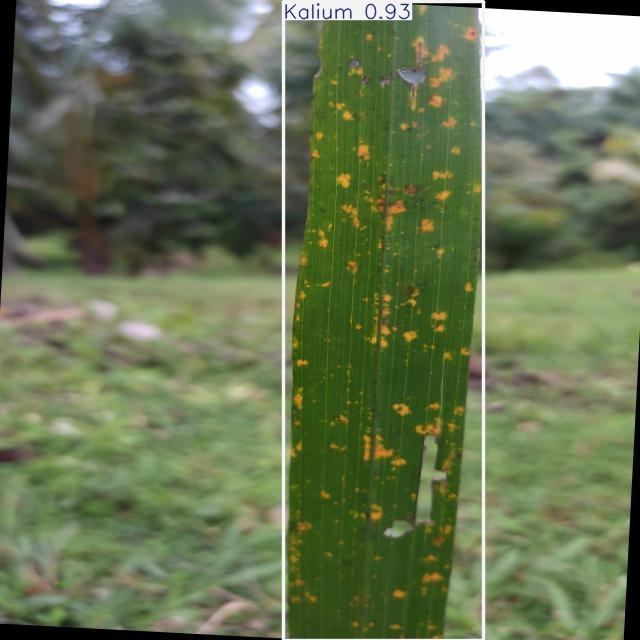Kalium: (283, 1, 483, 640)
